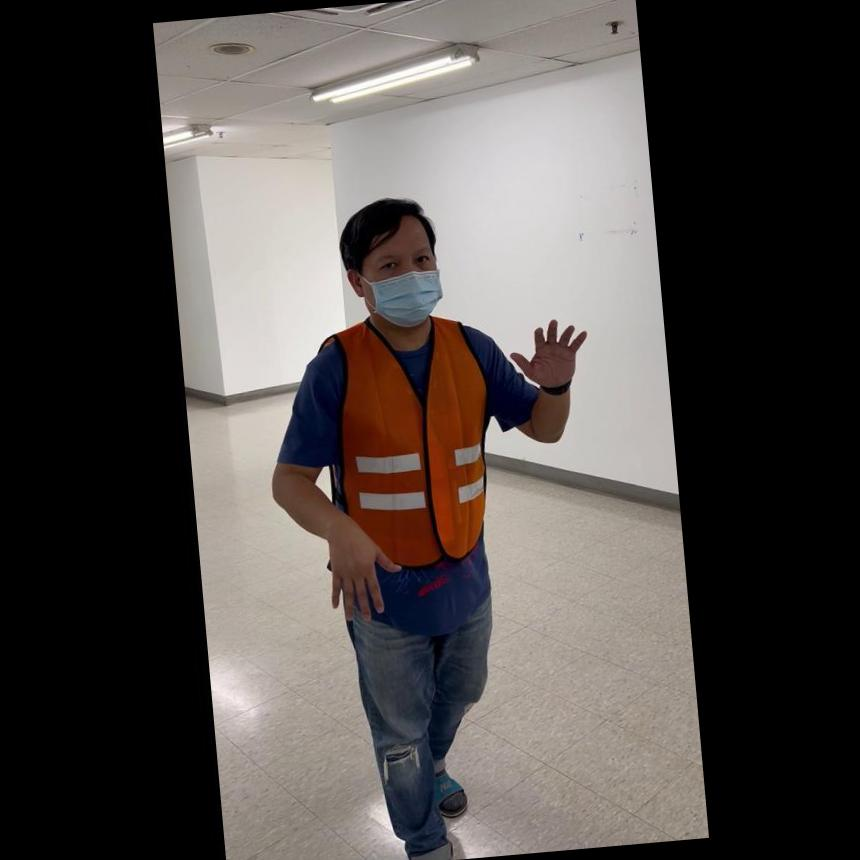No-gloves: (318, 518, 397, 623), (506, 310, 590, 393)
